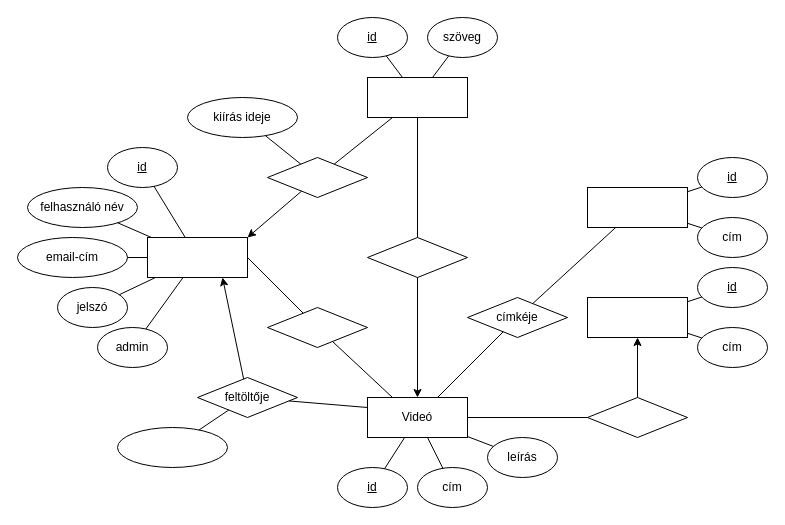
This 785x525 diagram has some shape labels left out. Each missing label, with the box of its shape:
Címke: (586, 186, 688, 228)
eredete: (366, 236, 468, 278)
Felhasználó: (146, 236, 248, 278)
feltöltés ideje: (116, 426, 228, 468)
Kategória: (586, 296, 688, 338)
kategóriája: (586, 396, 688, 438)
kedvence: (266, 306, 368, 348)
Komment: (366, 76, 468, 118)
írója: (266, 156, 368, 198)
